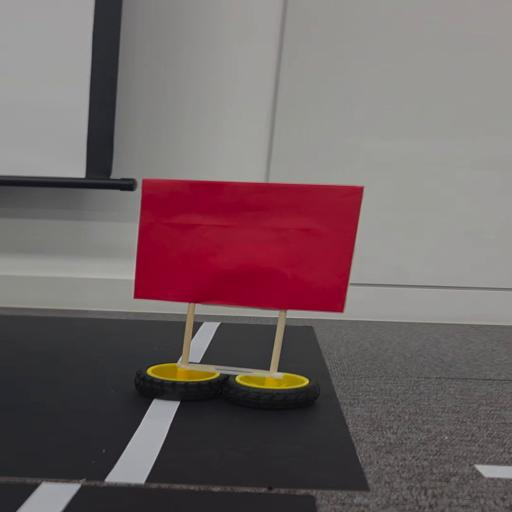Sign_A: (140, 171, 360, 401)
